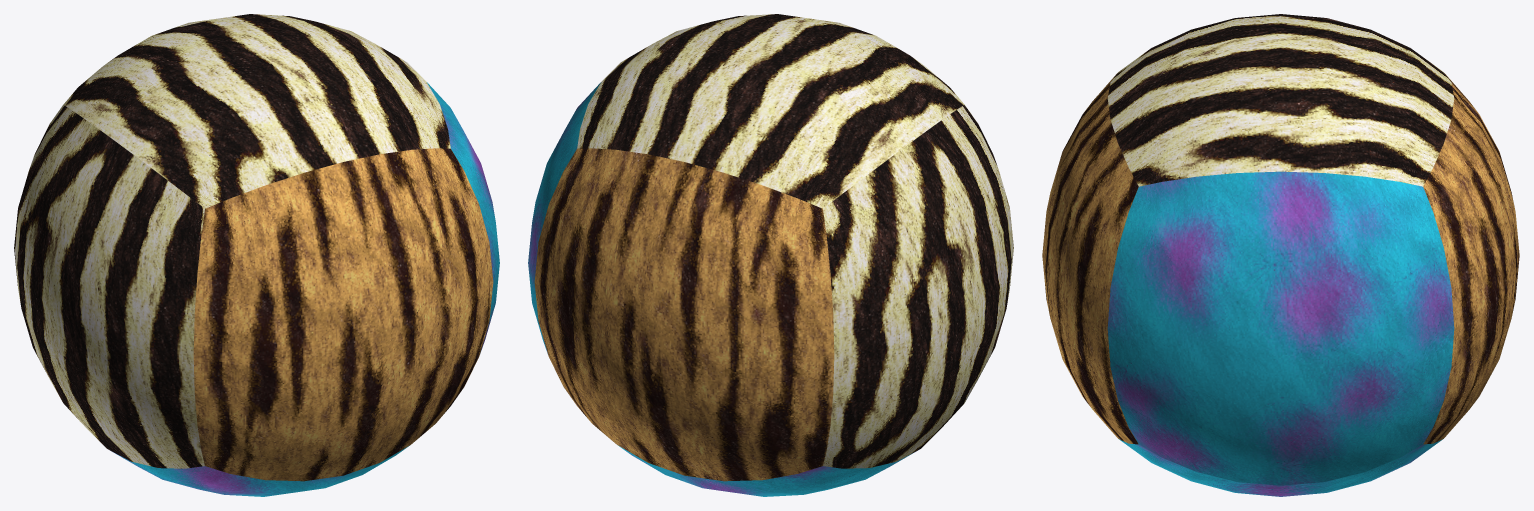
Rendered from skysphere.obj.
3 views of the same model, side by side, from view 1: azimuth 30°, elevation 25°; view 2: azimuth 150°, elevation 25°; view 3: azimuth 270°, elevation 25° (orthographic).
Parts seen in each view (by area): view 1: cube; view 2: cube; view 3: cube.
Part boxes in pixels (box(x1,y1,x2,y2)): cube: box(14, 14, 499, 496); cube: box(528, 14, 1013, 496); cube: box(1042, 14, 1519, 496).
Size of the model in its own units: 1.68 by 1.68 by 1.68.
